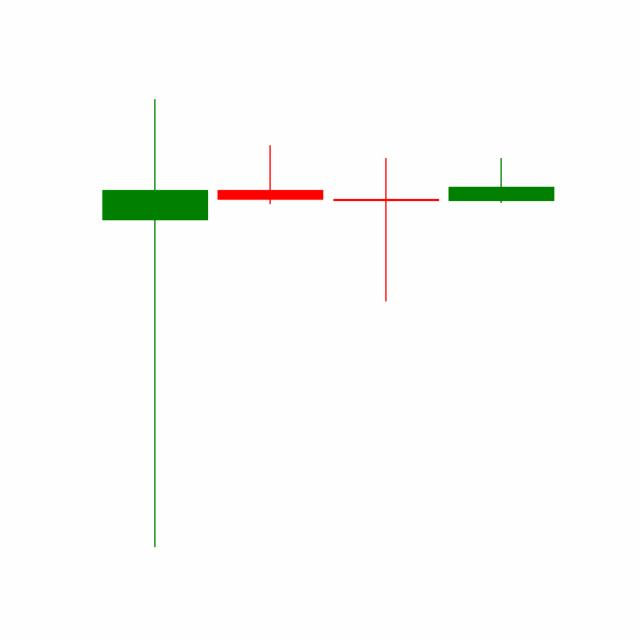Gravestone Doji: (443, 157, 559, 204)
